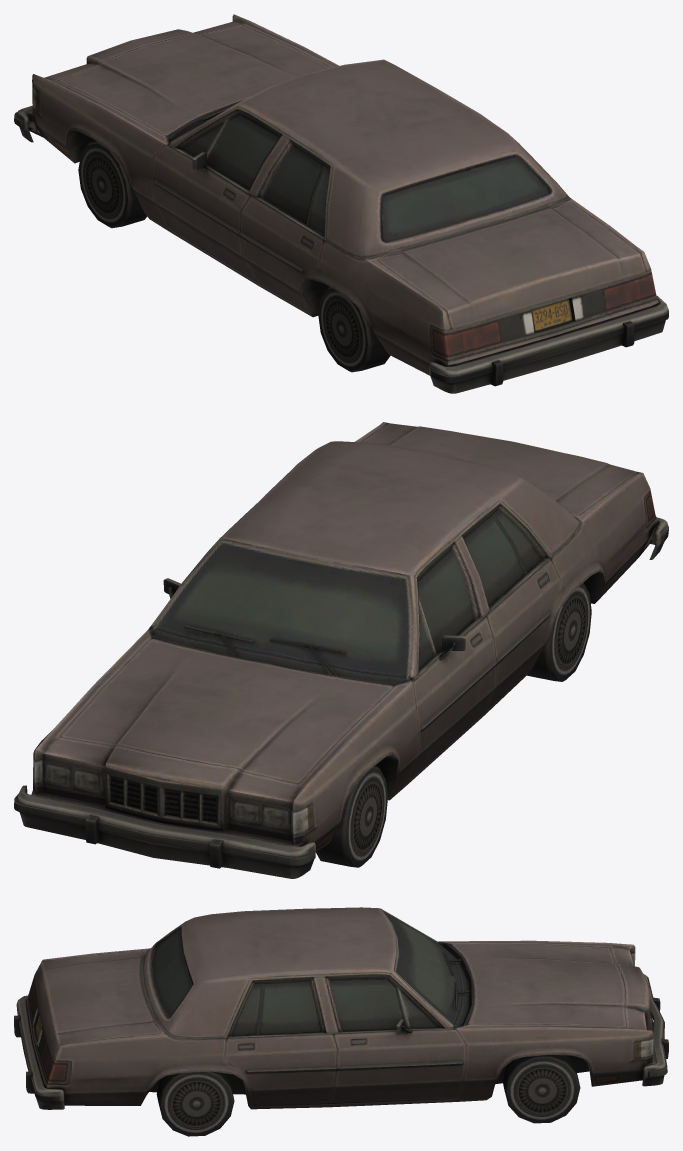
Rendered from Uptown_Sedan01.fbx.
The picture shows the model from 3 angles, top to bottom: view 1: azimuth 30°, elevation 25°; view 2: azimuth 150°, elevation 25°; view 3: azimuth 270°, elevation 25°; orthographic projection. The views are drawn at different scales.
Visible parts, largest first — view 1: ItemBox_Sedan_Brown_01; view 2: ItemBox_Sedan_Brown_01; view 3: ItemBox_Sedan_Brown_01.
Part boxes in pixels (x1,y1,x2,y2): ItemBox_Sedan_Brown_01: (14,14,668,393); ItemBox_Sedan_Brown_01: (14,422,668,878); ItemBox_Sedan_Brown_01: (14,907,668,1136).
Bounding box in the file's own units: 231 × 135 × 527.
1 material, 1 textured.
